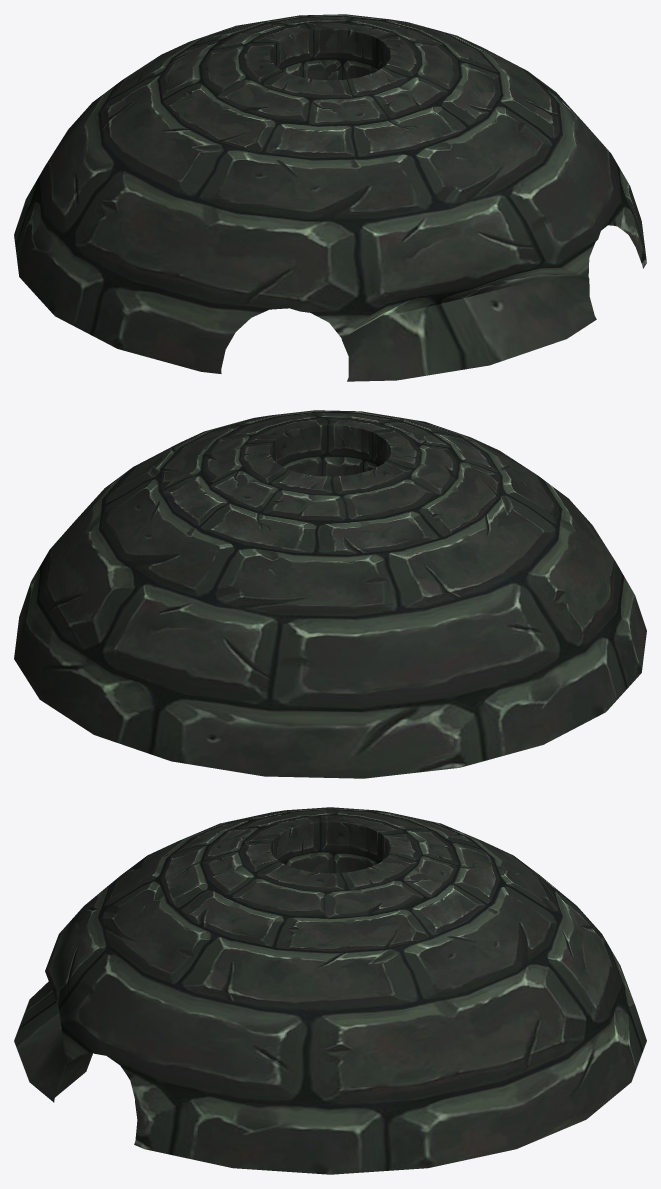
Rendered from PinballHole.obj.
3 renders of one model, top to bottom at view 1: azimuth 30°, elevation 25°; view 2: azimuth 150°, elevation 25°; view 3: azimuth 270°, elevation 25°, orthographic.
Parts seen in each view (by area): view 1: PinballHole; view 2: PinballHole; view 3: PinballHole.
Part boxes in pixels (bbox=[...]): PinballHole: bbox=[14, 14, 646, 381]; PinballHole: bbox=[14, 410, 646, 778]; PinballHole: bbox=[14, 807, 646, 1174].
Size of the model in its own units: 55.18 by 18.57 by 55.18.
Materials: 1 (1 with a texture image).
